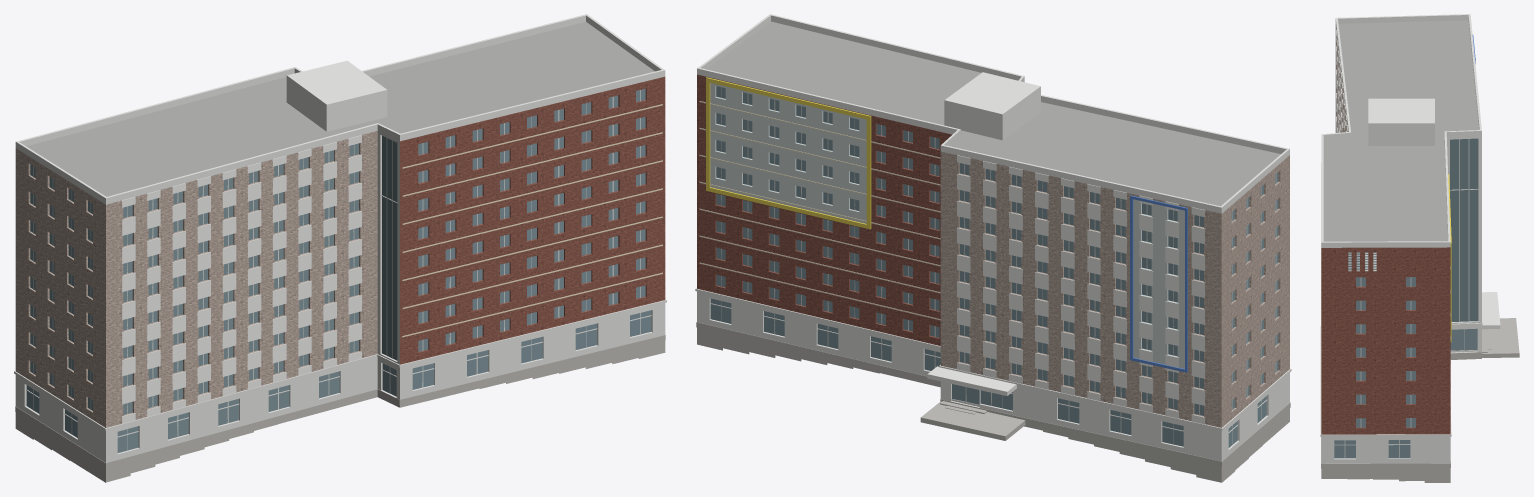
3 renders of one model, left to right at view 1: azimuth 30°, elevation 25°; view 2: azimuth 150°, elevation 25°; view 3: azimuth 270°, elevation 25°, orthographic. The views are drawn at different scales.
Parts seen in each view (by area): view 1: D8 beige brick, D8 dark red brick, D8 white ground floor, D8 grey roof, D8 blue grey glass, D8 white vertical strips, D8 granite plinth and paving, D8 white window frames, D8 cream floor lines, D8 dark stair core glass; view 2: D8 beige brick, D8 grey roof, D8 white ground floor, D8 dark red brick, D8 blue grey glass, D8 grey mint panel, D8 white vertical strips, D8 granite plinth and paving, D8 white window frames, D8 cream floor lines, D8 yellow panel frame, D8 blue panel frame (+1 smaller); view 3: D8 grey roof, D8 dark red brick, D8 white ground floor, D8 dark stair core glass, D8 granite plinth and paving, D8 blue grey glass, D8 white window frames, D8 white sign canopy, D8 white vertical strips, D8 beige brick, D8 yellow panel frame, D8 cream floor lines.
Boxes of the visible parts, bbox=[...] form: D8 beige brick: bbox=[15, 131, 377, 427]; D8 dark red brick: bbox=[400, 76, 665, 364]; D8 white ground floor: bbox=[14, 14, 666, 462]; D8 grey roof: bbox=[26, 22, 654, 196]; D8 blue grey glass: bbox=[26, 88, 651, 452]; D8 white vertical strips: bbox=[122, 135, 361, 423]; D8 granite plinth and paving: bbox=[15, 335, 665, 482]; D8 white window frames: bbox=[26, 90, 651, 450]; D8 cream floor lines: bbox=[402, 104, 662, 337]; D8 dark stair core glass: bbox=[382, 135, 397, 360]; D8 beige brick: bbox=[940, 151, 1289, 427]; D8 grey roof: bbox=[707, 21, 1280, 206]; D8 white ground floor: bbox=[695, 14, 1291, 461]; D8 dark red brick: bbox=[697, 74, 951, 345]; D8 blue grey glass: bbox=[710, 86, 1278, 447]; D8 grey mint panel: bbox=[710, 83, 1184, 368]; D8 white vertical strips: bbox=[957, 155, 1205, 424]; D8 granite plinth and paving: bbox=[696, 322, 1290, 482]; D8 white window frames: bbox=[710, 87, 1276, 444]; D8 cream floor lines: bbox=[699, 101, 940, 320]; D8 yellow panel frame: bbox=[706, 77, 871, 229]; D8 blue panel frame: bbox=[1130, 195, 1187, 372]; D8 grey roof: bbox=[1323, 20, 1479, 241]; D8 dark red brick: bbox=[1321, 247, 1450, 434]; D8 white ground floor: bbox=[1320, 14, 1482, 463]; D8 dark stair core glass: bbox=[1450, 138, 1478, 321]; D8 granite plinth and paving: bbox=[1321, 318, 1519, 482]; D8 blue grey glass: bbox=[1334, 252, 1477, 458]; D8 white window frames: bbox=[1334, 139, 1478, 458]; D8 white sign canopy: bbox=[1482, 292, 1500, 329]; D8 white vertical strips: bbox=[1336, 30, 1348, 132]; D8 beige brick: bbox=[1335, 24, 1348, 132]; D8 yellow panel frame: bbox=[1448, 174, 1451, 342]; D8 cream floor lines: bbox=[1321, 163, 1450, 410].
Bounding box in the file's own units: 64.95 × 34.07 × 23.82.
Materials: 14 (2 with a texture image).
